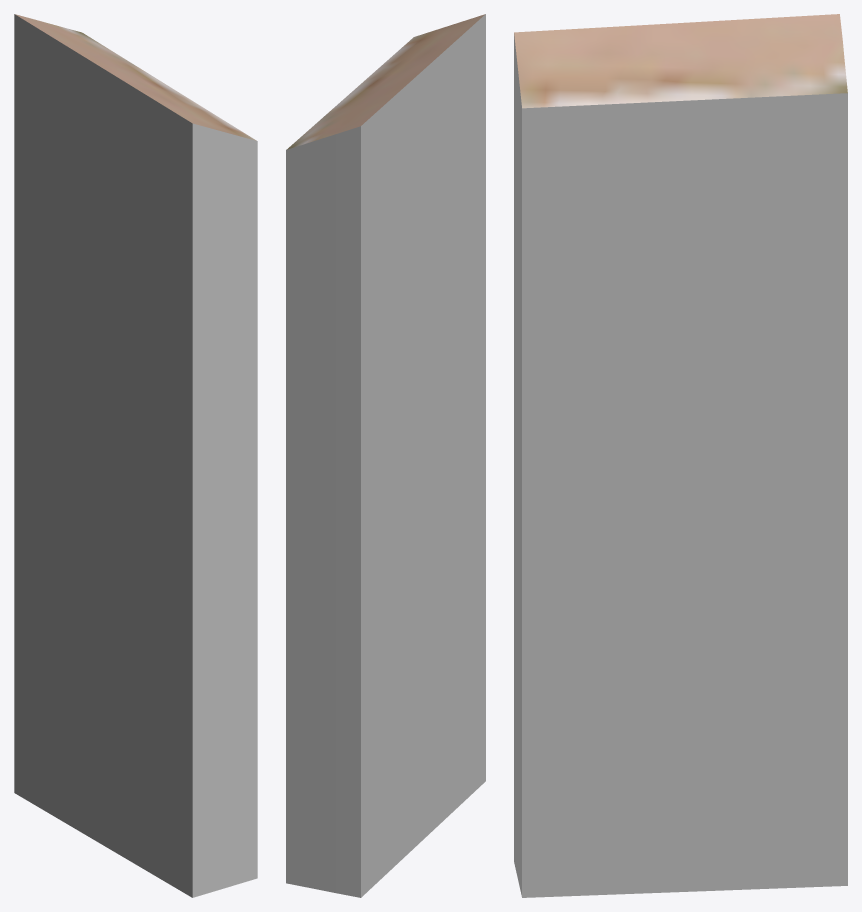
File: DEBW_0010007TI05.gltf
3 renders of one model, left to right at view 1: azimuth 30°, elevation 25°; view 2: azimuth 150°, elevation 25°; view 3: azimuth 270°, elevation 25°, orthographic. The views are drawn at different scales.
Parts seen in each view (by area): view 1: Z_UP; view 2: Z_UP; view 3: Z_UP.
Boxes of the visible parts, left/top/right/bottom form: Z_UP: left=14, top=14, right=257, bottom=897; Z_UP: left=286, top=14, right=485, bottom=897; Z_UP: left=514, top=14, right=847, bottom=897.
Bounding box in the file's own units: 1.6 × 12.55 × 4.55.
Materials: 2 (1 with a texture image).
